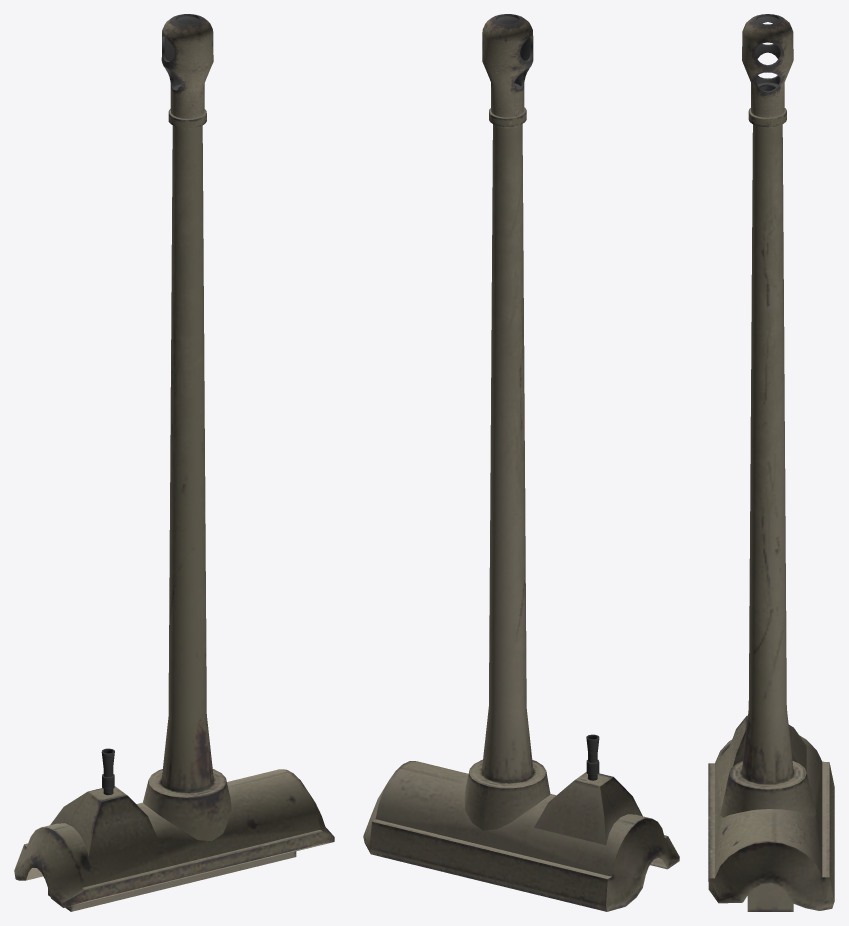
The model's file is Gun_01.glb.
3 renders of one model, left to right at view 1: azimuth 30°, elevation 25°; view 2: azimuth 150°, elevation 25°; view 3: azimuth 270°, elevation 25°, orthographic.
Parts seen in each view (by area): view 1: set_0_group_0; view 2: set_0_group_0; view 3: set_0_group_0.
Boxes of the visible parts, <box> form: set_0_group_0: <box>14,14,334,911</box>; set_0_group_0: <box>363,14,679,911</box>; set_0_group_0: <box>708,14,834,911</box>.
Size of the model in its own units: 1.34 by 4.03 by 0.5447.
Materials: 1 (1 with a texture image).
